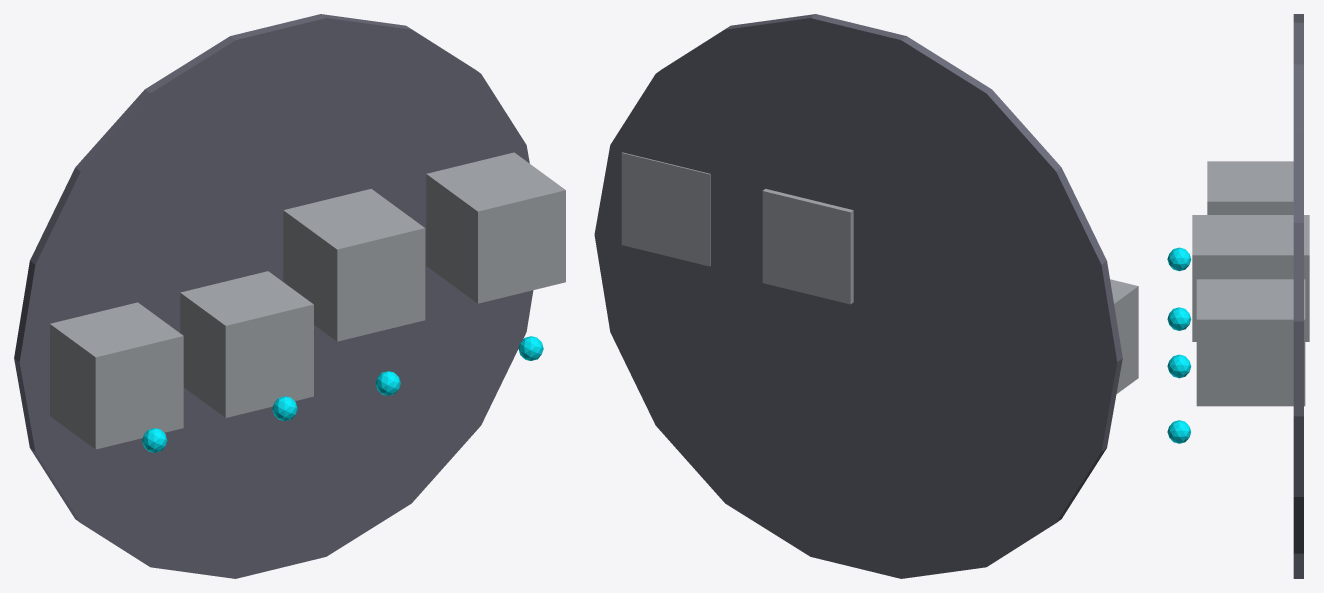
Rendered from 02_local_prop_cluster.glb.
3 views of the same model, side by side, from view 1: azimuth 30°, elevation 25°; view 2: azimuth 150°, elevation 25°; view 3: azimuth 270°, elevation 25° (orthographic). The views are drawn at different scales.
Parts seen in each view (by area): view 1: scatter_base, tech_crate_3, tech_crate_2, tech_crate_0, tech_crate_1; view 2: scatter_base, tech_crate_2, tech_crate_3, tech_crate_0; view 3: tech_crate_3, tech_crate_2, scatter_base, tech_crate_0, status_light_0, status_light_2, status_light_1, status_light_3.
Part boxes in pixels (x1,y1,x2,y2): scatter_base: [14, 14, 533, 578]; tech_crate_3: [426, 152, 565, 303]; tech_crate_2: [283, 188, 425, 341]; tech_crate_0: [50, 302, 183, 449]; tech_crate_1: [180, 271, 313, 417]; scatter_base: [594, 14, 1122, 578]; tech_crate_2: [762, 188, 853, 304]; tech_crate_3: [621, 152, 710, 266]; tech_crate_0: [1110, 279, 1138, 393]; tech_crate_3: [1196, 279, 1305, 406]; tech_crate_2: [1192, 215, 1309, 341]; scatter_base: [1293, 14, 1303, 578]; tech_crate_0: [1207, 161, 1293, 214]; status_light_0: [1167, 247, 1191, 271]; status_light_2: [1167, 354, 1191, 378]; status_light_1: [1167, 307, 1191, 330]; status_light_3: [1167, 420, 1190, 443].
Bounding box in the file's own units: 1.9 × 1.87 × 0.4762.
